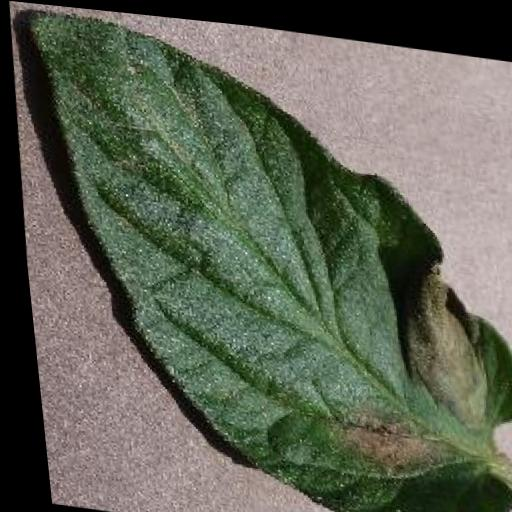Late Blight: (7, 3, 512, 512)
